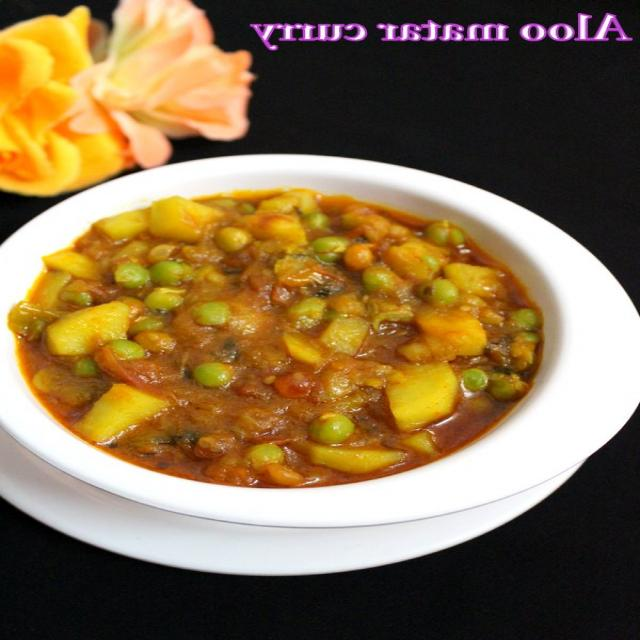Aloo Matar: (1, 197, 527, 478)
